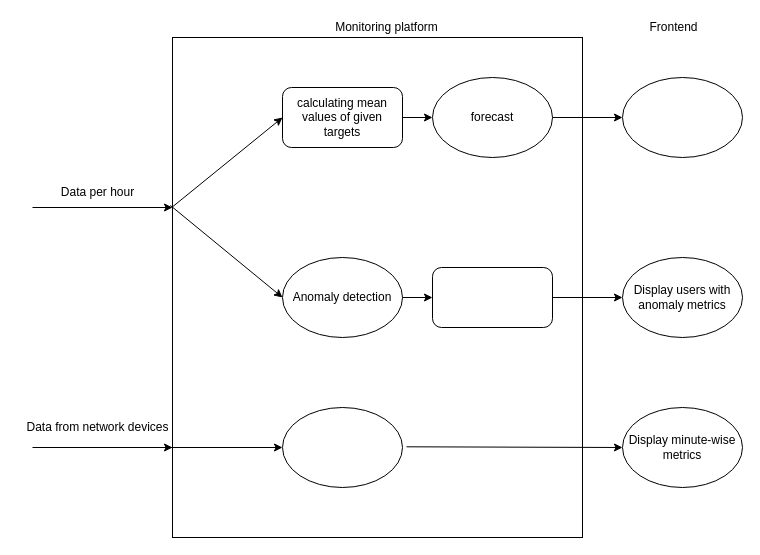
Image size: 760x555. Some labels were removed from this diagram. The centre of each missing label's shape, as x and y in pixels:
"Make a list of users and commutators with anomaly" belongs at (492,297).
"Minute-wise aggregating" belongs at (342,447).
"Plot time series with forecasting" belongs at (682,117).
